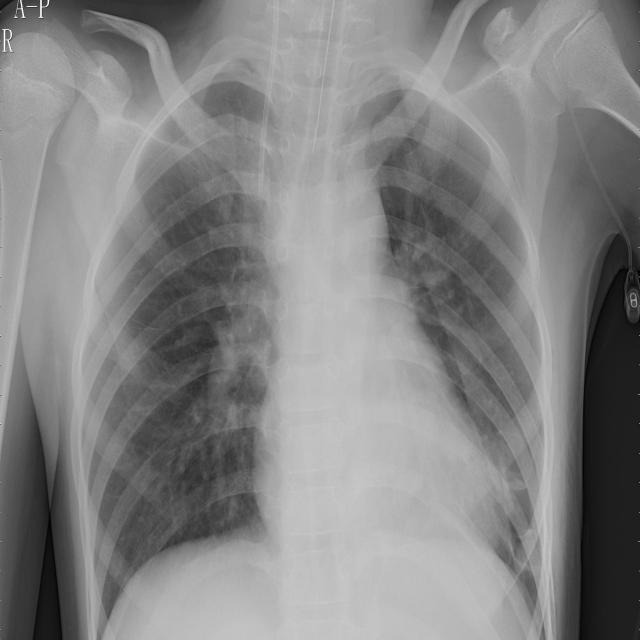low-pneumonia: (201, 243, 277, 479), (395, 224, 469, 352)
